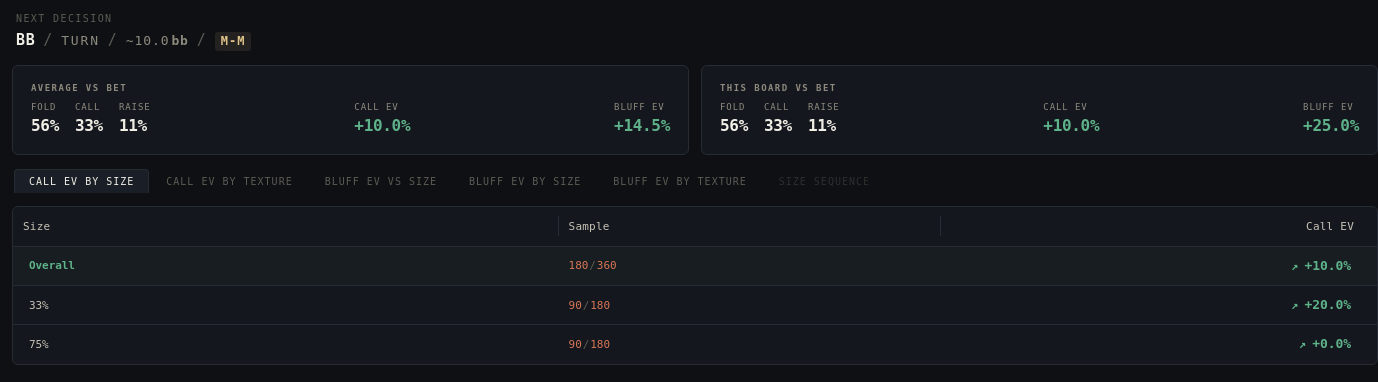
ResultsPane — facing mode (hero deciding whether to call) › Bluff EV vs size table uses the CURRENT street's metric, not always "River Bet Size"
Click the button "Bluff EV vs size": click(381, 181) x1=310 y1=169 x2=452 y2=193
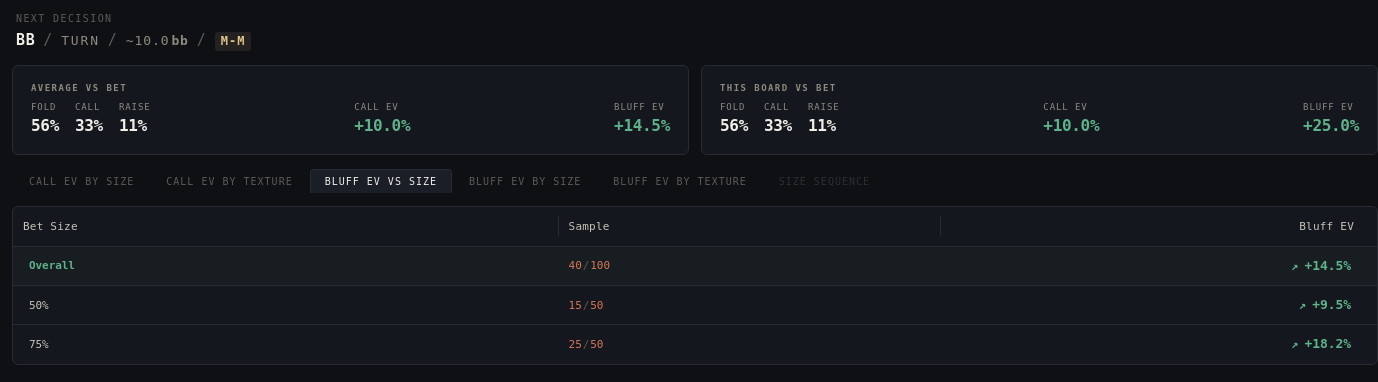
Expected: the text "75%" is shown, x1=13 y1=325 x2=559 y2=364
Expected: the text "50%" is shown, x1=13 y1=286 x2=559 y2=325
